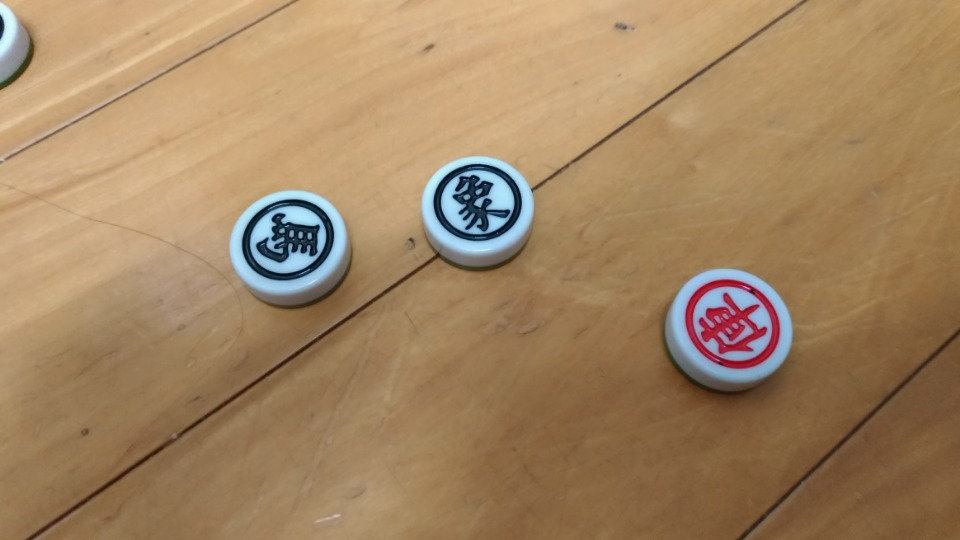b-elephant: (398, 147, 557, 289)
b-knight: (198, 177, 365, 315)
r-rook: (662, 249, 798, 400)
